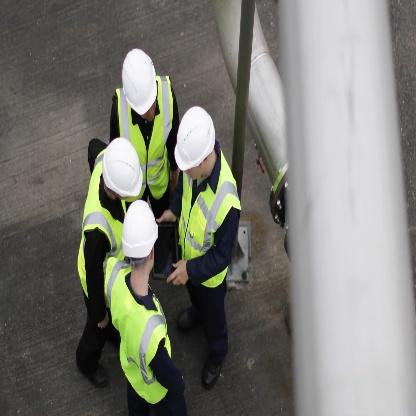helmet: (169, 105, 226, 185), (108, 199, 161, 281), (85, 143, 139, 211), (112, 41, 156, 117)
